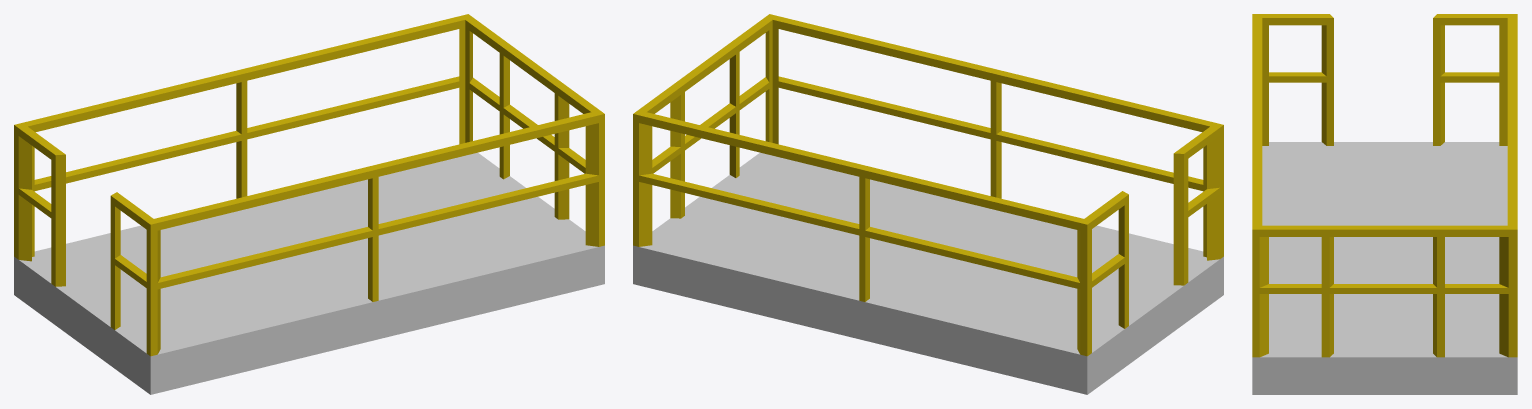
The model's file is ScissorLift_Cage.fbx.
The picture shows the model from 3 angles, left to right: view 1: azimuth 30°, elevation 25°; view 2: azimuth 150°, elevation 25°; view 3: azimuth 270°, elevation 25°; orthographic projection. The views are drawn at different scales.
Visible parts, largest first — view 1: Cage; view 2: Cage; view 3: Cage.
Part boxes in pixels (left/top/right/bottom): Cage: left=14, top=14, right=604, bottom=394; Cage: left=633, top=14, right=1223, bottom=394; Cage: left=1252, top=14, right=1517, bottom=394.
Size of the model in its own units: 231 by 82.7 by 120.
